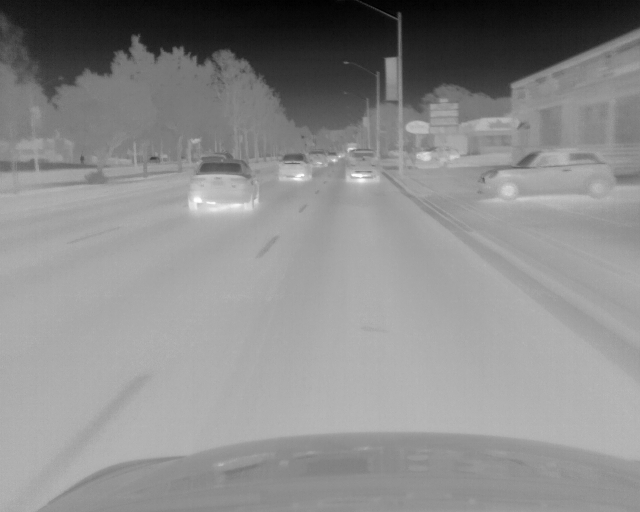car: (477, 149, 616, 200), (188, 158, 260, 214), (345, 149, 380, 184), (278, 151, 310, 182), (415, 143, 459, 163), (195, 153, 236, 166), (308, 150, 327, 167), (326, 152, 337, 165)
